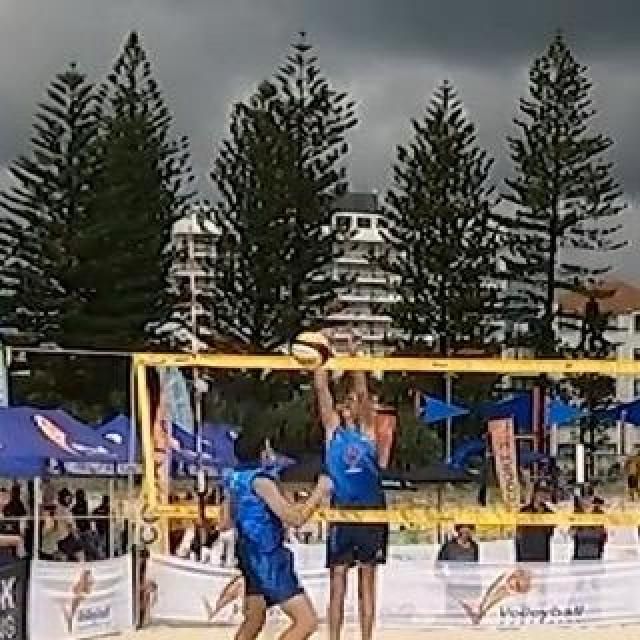volleyball: (292, 329, 330, 373)
